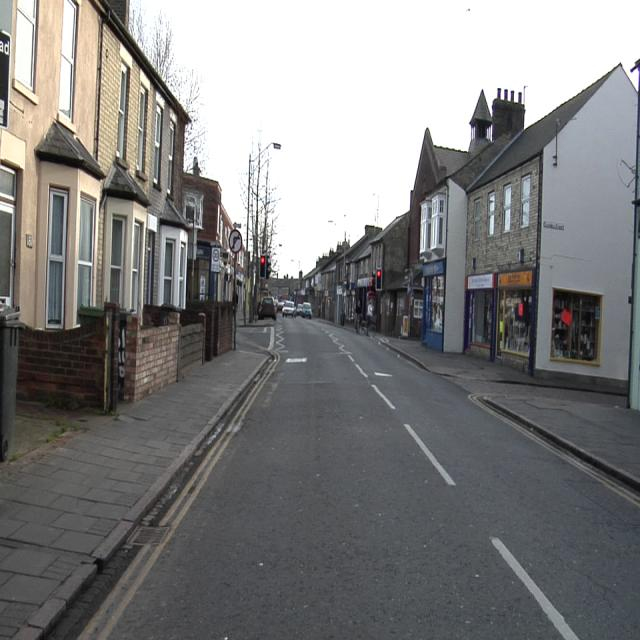Building: (300, 65, 636, 392)
Car: (258, 297, 276, 320), (282, 300, 296, 316), (299, 302, 311, 318)
Road: (71, 318, 640, 638)
